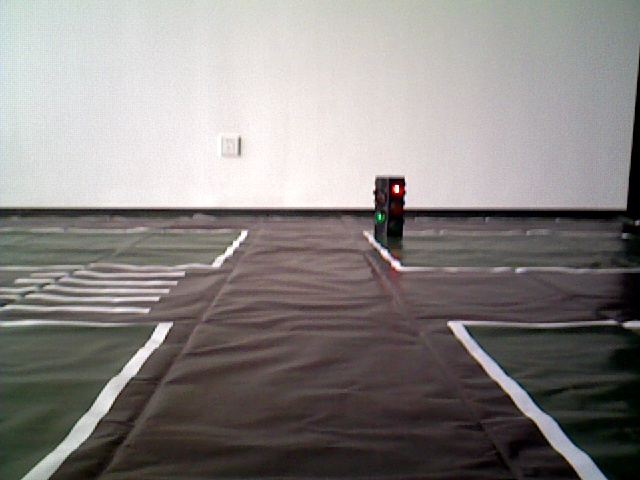red: (376, 176, 404, 246)
